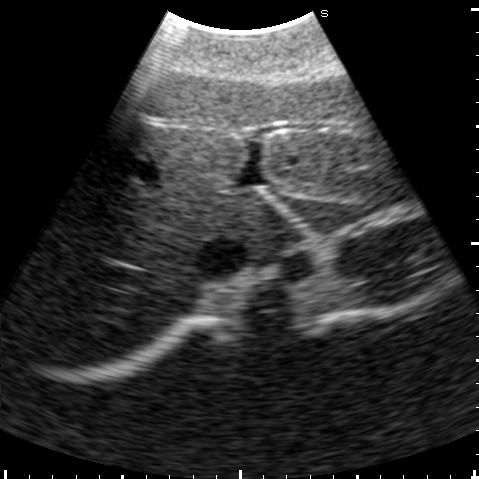IVC: (197, 238, 250, 281)
S1: (232, 190, 301, 265)
S2: (266, 183, 415, 233)
S3: (244, 71, 407, 200)
